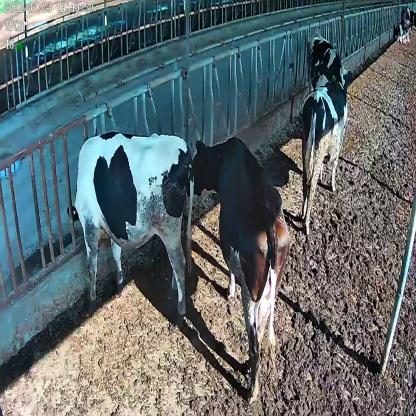cow: (188, 136, 291, 404), (66, 129, 191, 324), (300, 74, 348, 229), (306, 31, 350, 96)
